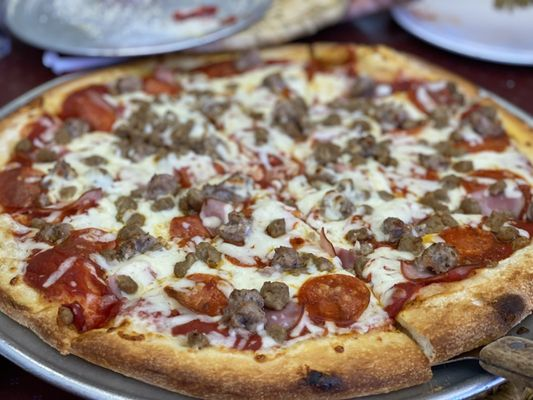sandwich: (1, 34, 533, 399)
